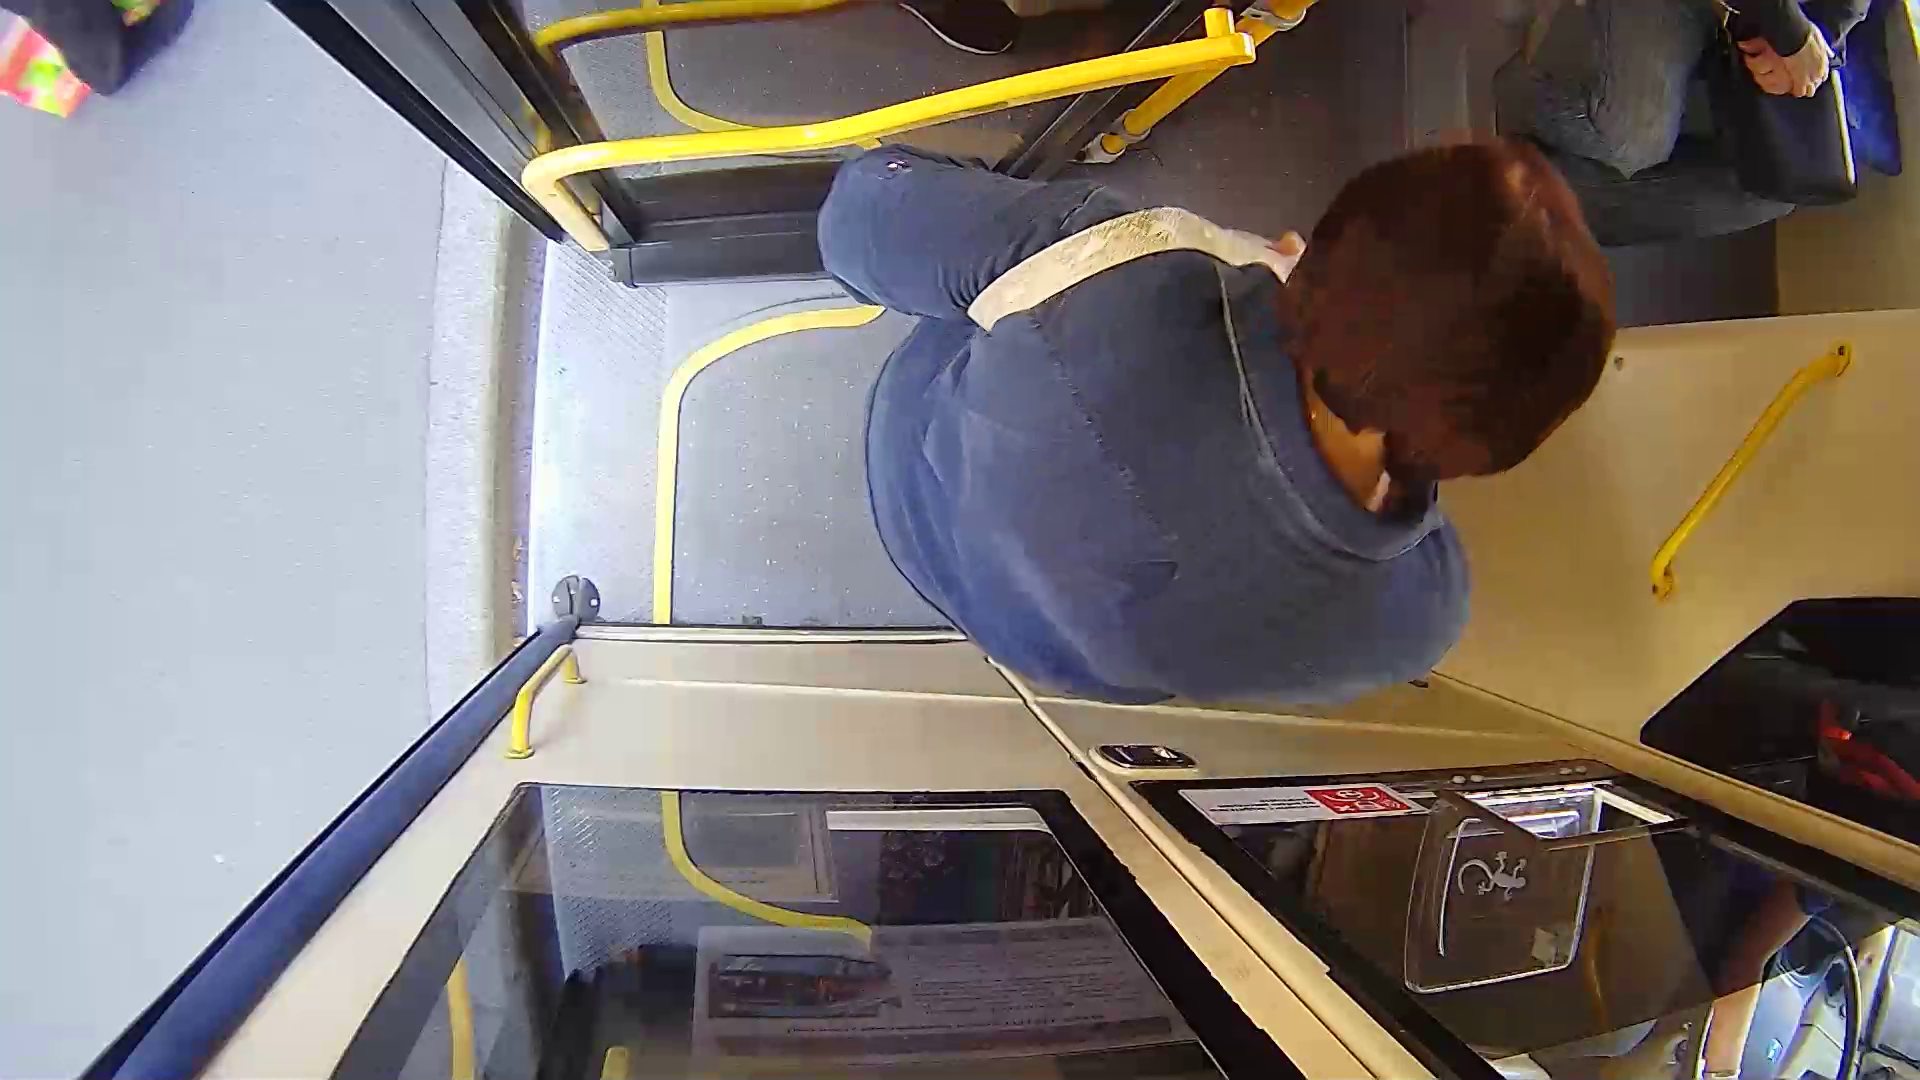person: (801, 49, 1629, 723)
